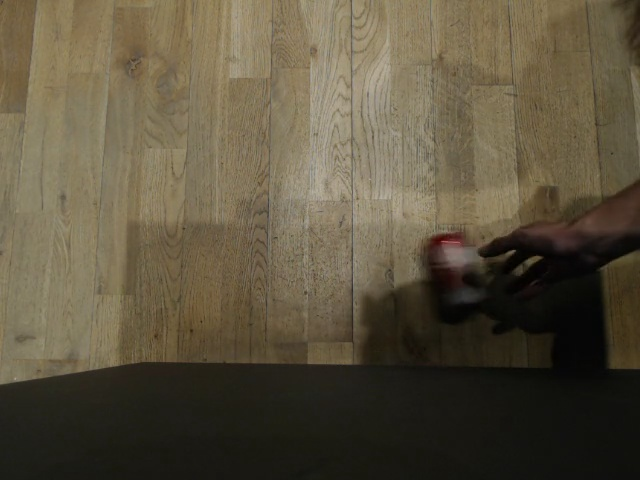cola: (421, 234, 481, 319)
